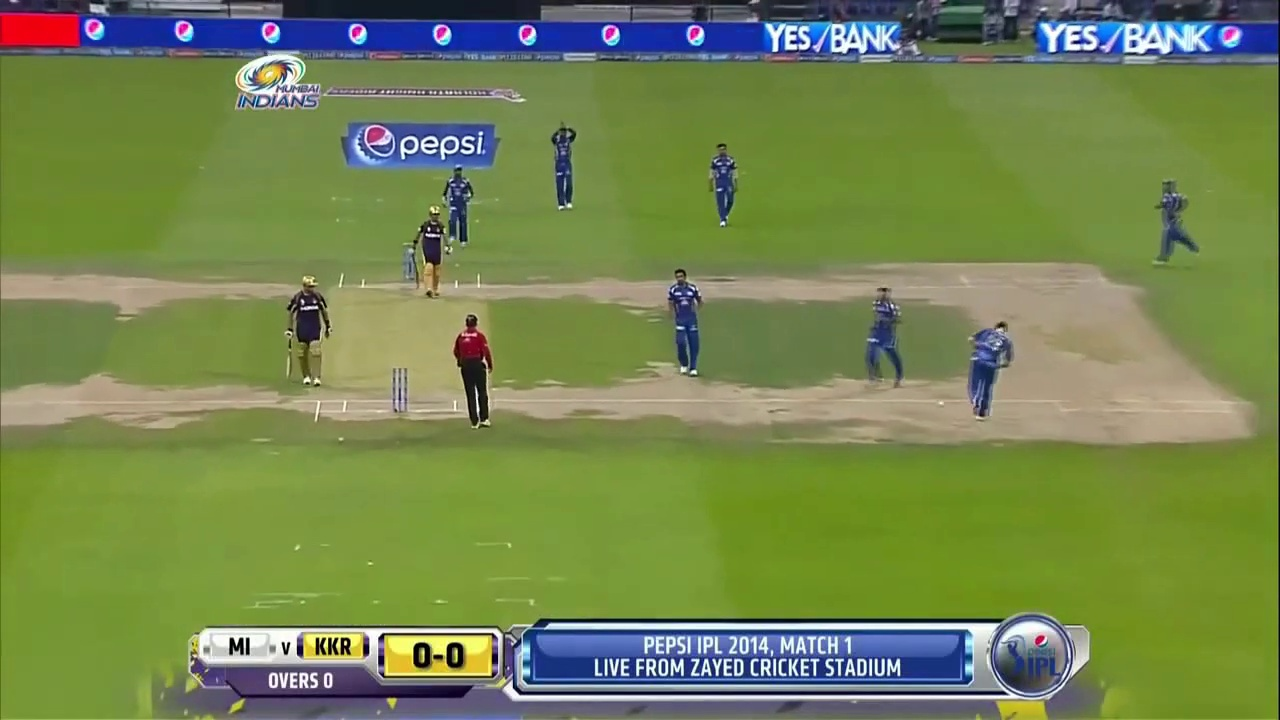bat: (411, 257, 420, 289), (286, 343, 293, 378)
stumps: (390, 366, 408, 412)
